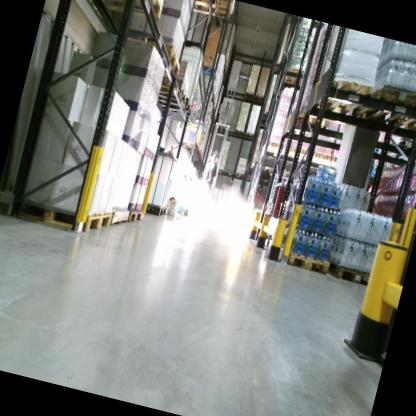pallet: (9, 187, 114, 243), (102, 26, 188, 76), (359, 80, 416, 138), (315, 70, 377, 121), (68, 0, 165, 27), (264, 240, 334, 277), (322, 260, 378, 293), (144, 88, 196, 121), (149, 73, 192, 108), (398, 90, 416, 140), (288, 110, 326, 130), (208, 0, 241, 23), (283, 64, 311, 91), (109, 204, 135, 232), (185, 0, 220, 18), (263, 136, 288, 158), (288, 142, 314, 162), (143, 201, 169, 221), (197, 61, 220, 80), (126, 206, 146, 227), (327, 151, 348, 169), (310, 149, 332, 164), (241, 90, 265, 102), (260, 109, 273, 124), (232, 129, 244, 141), (244, 132, 257, 143), (234, 172, 244, 179)
